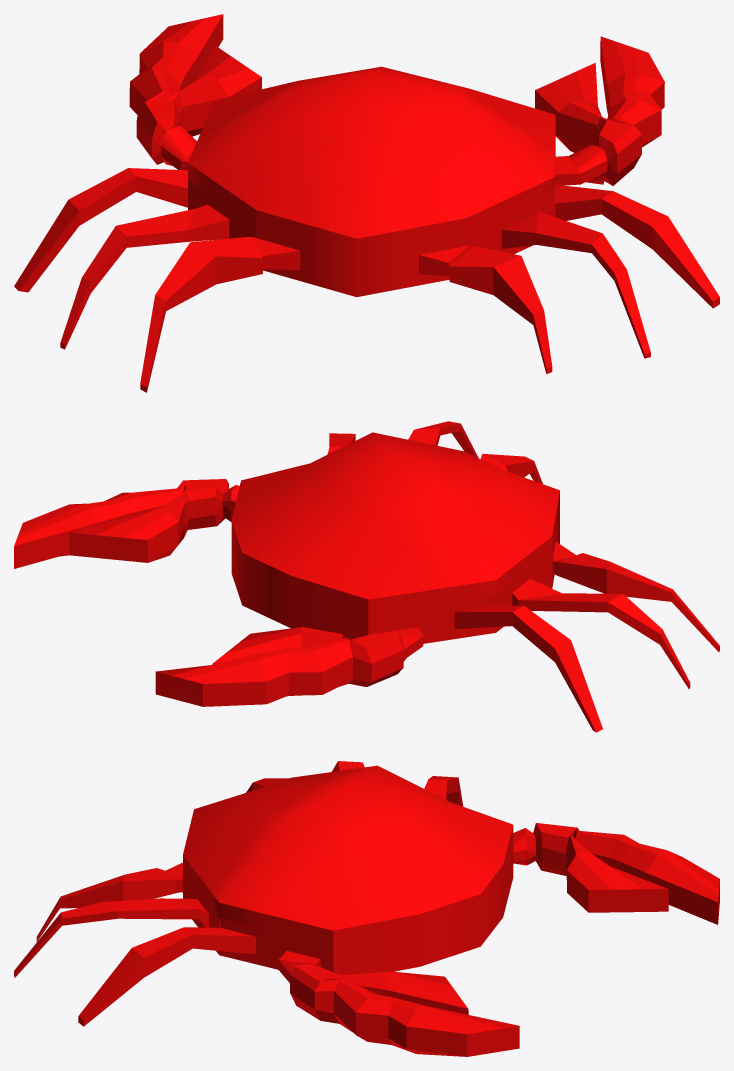
File: Crabe_poupou-1.FBX
The picture shows the model from 3 angles, top to bottom: view 1: azimuth 30°, elevation 25°; view 2: azimuth 150°, elevation 25°; view 3: azimuth 270°, elevation 25°; orthographic projection. The views are drawn at different scales.
Visible parts, largest first — view 1: Box002; view 2: Box002; view 3: Box002.
Part boxes in pixels (<box>): Box002: <box>14,14,719,392</box>; Box002: <box>14,421,719,732</box>; Box002: <box>14,761,719,1056</box>.
Size of the model in its own units: 132 by 37.38 by 135.
